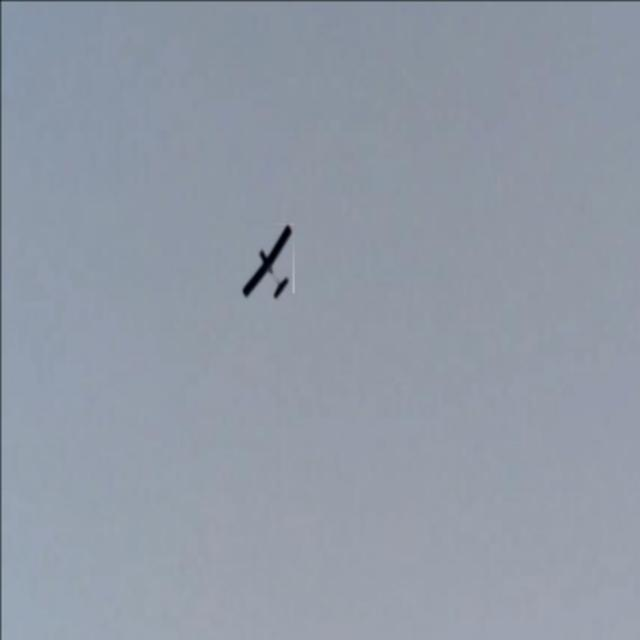plane: (240, 224, 292, 301)
